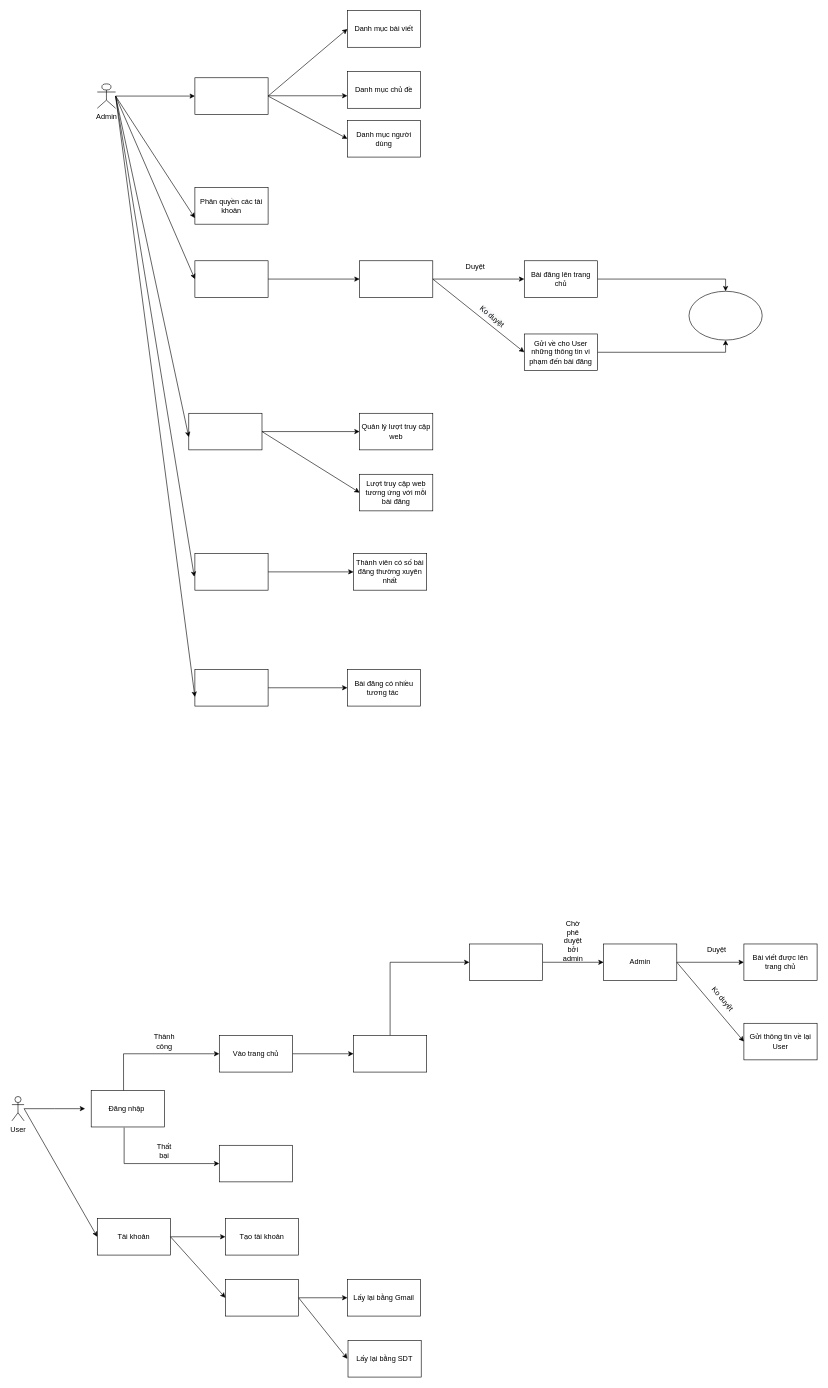
This 828x1388 diagram has some shape labels left out. Here are the shapes that lost their labels. From the top down, the box of each, then its label:
(194, 77, 268, 114): Quản lý các danh mục
(194, 260, 268, 297): Quản lý các bài đăng của User
(359, 260, 433, 297): Các bài đăng chờ phê duyệt
(688, 291, 762, 340): Thông báo về user
(188, 413, 262, 450): Quản lý lượt truy cập vào web
(194, 553, 268, 590): Quản lý thành viên ưu tú
(194, 669, 268, 706): Quản lý các bài đăng xuất sắc
(469, 943, 543, 981): CRUD Bài viết
(353, 1035, 427, 1072): Chọn danh mục bài viết
(219, 1145, 292, 1182): Quay lại trang Login
(225, 1279, 299, 1316): Lấy lại mật khẩu
